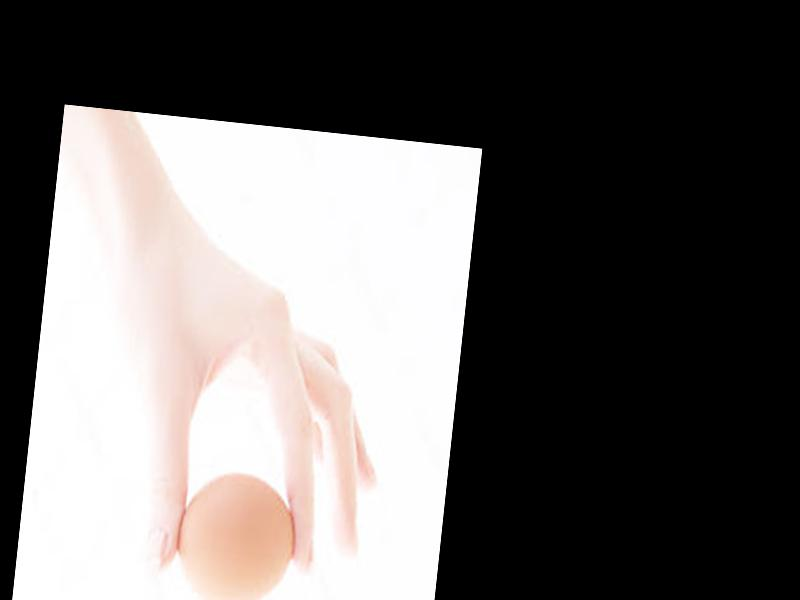Eggs: (170, 470, 301, 600)
